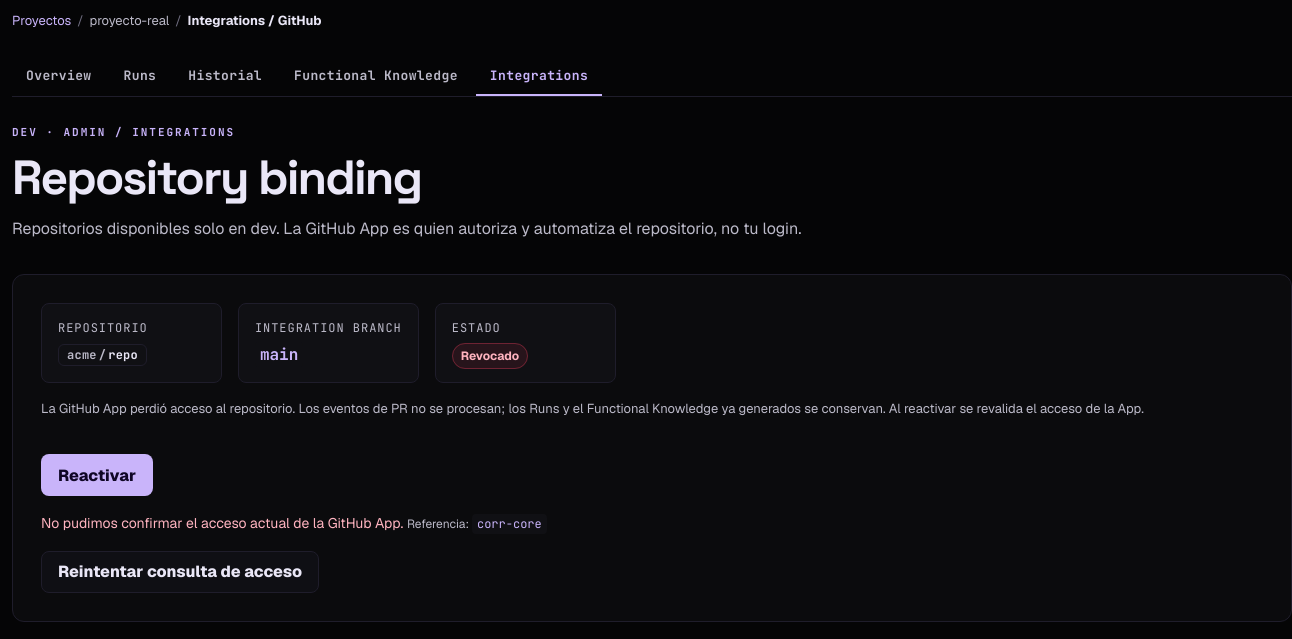
Test: en live Reactivar limpia el estado obsoleto de verificación tras un error previo
Expected: the button "Reintentar consulta de acceso" is shown, top-left (41, 550), bottom-right (319, 592)
Click the button "Reactivar" at (97, 475), box top-left (41, 454), bottom-right (153, 496)
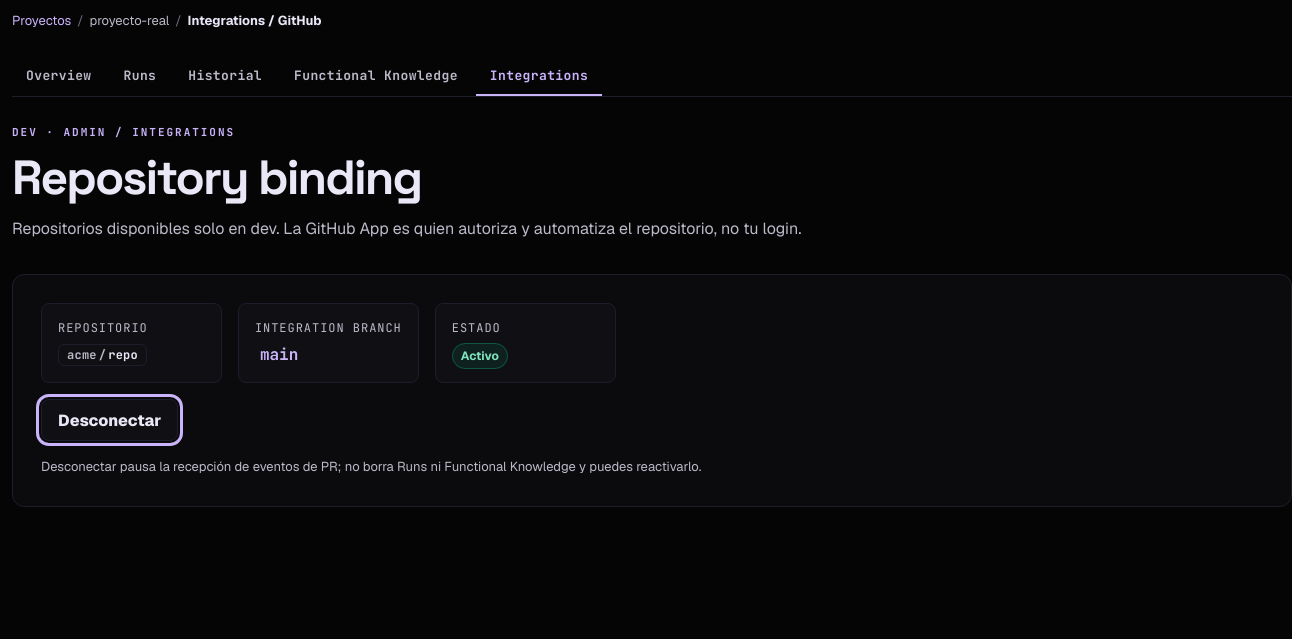
Result: the button "Desconectar" is shown at top-left (41, 399), bottom-right (178, 441)
Result: the button "Reintentar consulta de acceso" is gone
Result: the text "No pudimos confirmar el acceso actual de la GitHub App." is gone
